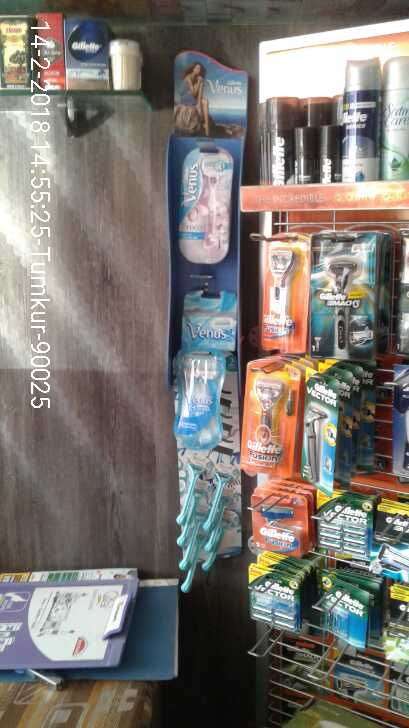beauty: (180, 456, 241, 603), (168, 135, 234, 260), (312, 237, 370, 355), (256, 236, 308, 349), (239, 372, 298, 466), (336, 59, 381, 182), (318, 577, 383, 646), (316, 491, 374, 560), (178, 355, 223, 439), (299, 386, 336, 481), (62, 18, 110, 90), (261, 98, 302, 180), (174, 293, 233, 348), (248, 564, 299, 627)
